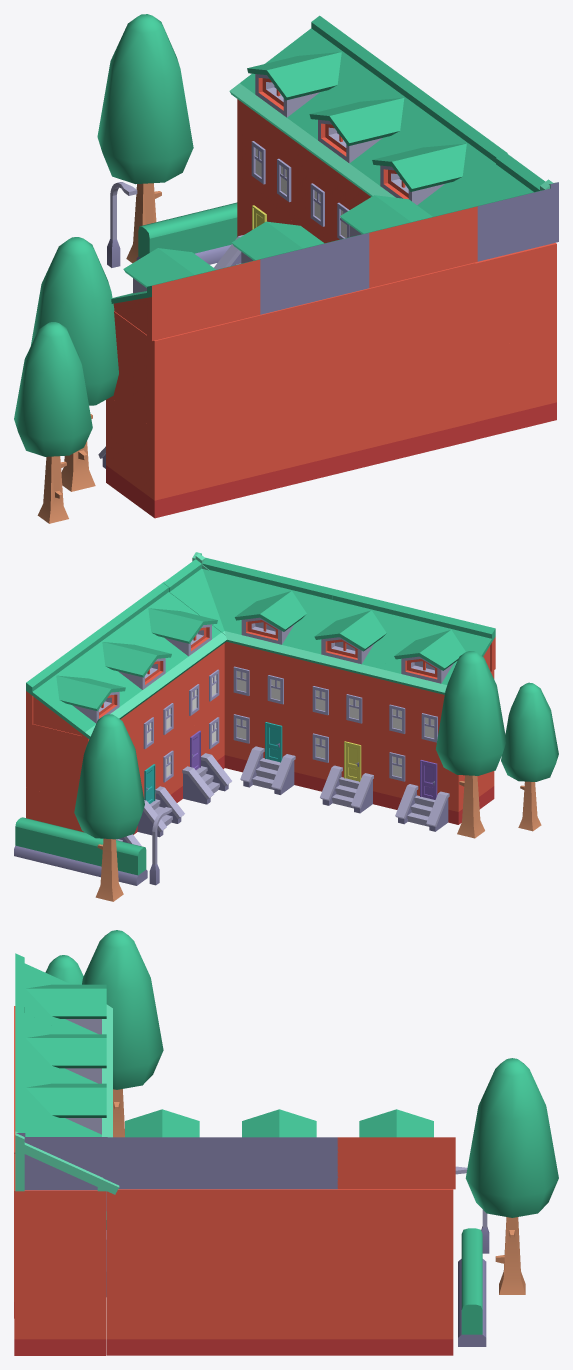
Rendered from terraced_houses.glb.
3 renders of one model, top to bottom at view 1: azimuth 30°, elevation 25°; view 2: azimuth 150°, elevation 25°; view 3: azimuth 270°, elevation 25°, orthographic. The views are drawn at different scales.
Visible parts, largest first — view 1: mergedBlocks(Clone); view 2: mergedBlocks(Clone); view 3: mergedBlocks(Clone).
Boxes of the visible parts, x1,y1,x2,y2 form: mergedBlocks(Clone): (14, 14, 558, 523); mergedBlocks(Clone): (14, 552, 558, 901); mergedBlocks(Clone): (14, 930, 558, 1355).
Size of the model in its own units: 1.22 by 0.5501 by 1.19.
